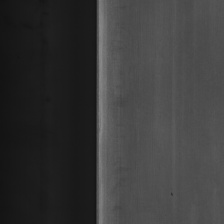inclusion: (167, 184, 176, 201)
